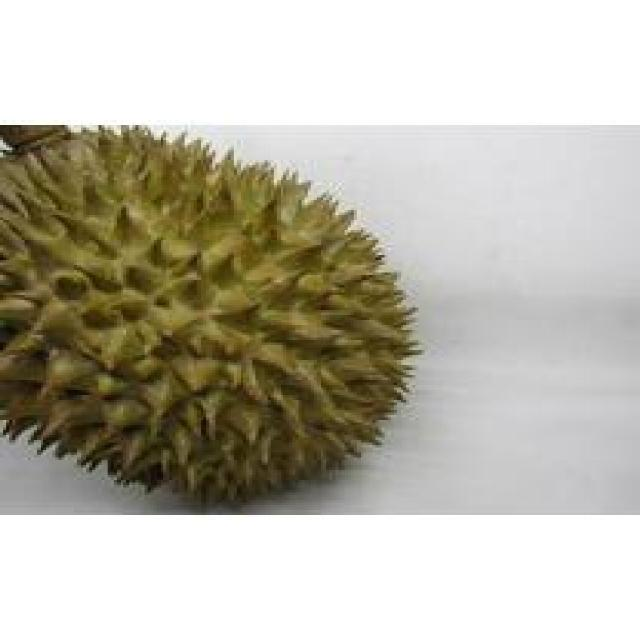fruit: (3, 118, 415, 520)
